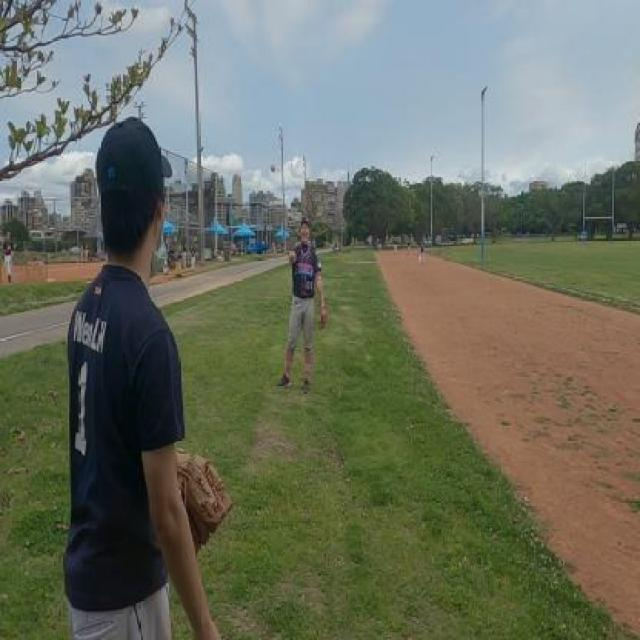baseball: (271, 164, 275, 173)
